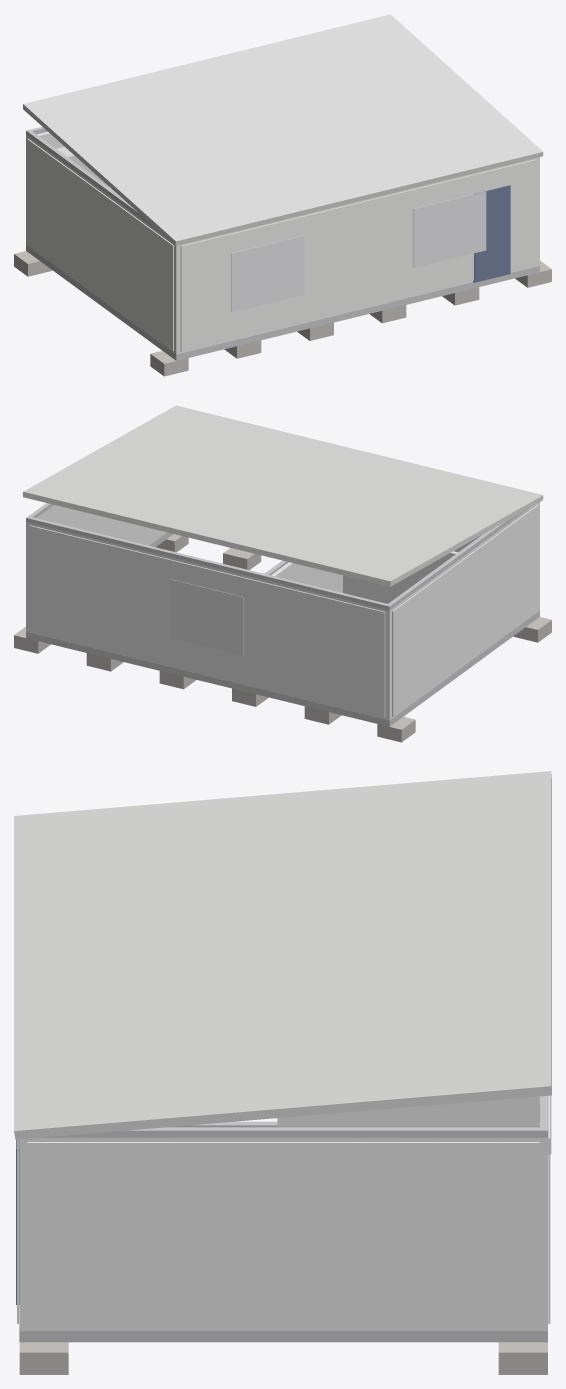
The model's file is Studio-30-Premium+SlopingRoof-LOD3.glb.
3 views of the same model, one above another, from view 1: azimuth 30°, elevation 25°; view 2: azimuth 150°, elevation 25°; view 3: azimuth 270°, elevation 25° (orthographic). The views are drawn at different scales.
Visible parts, largest first — view 1: RoofSlopingUpgrade, ExteriorPanelsPremium, WindowsLargeUpgrade, BaseFrame, FoundationBlocks, ExteriorShell, EntryDoor, TopFrame; view 2: ExteriorPanelsPremium, RoofSlopingUpgrade, ExteriorShell, FoundationBlocks, WindowsLargeUpgrade, BaseFrame, TopFrame, BedroomWalls; view 3: RoofSlopingUpgrade, ExteriorPanelsPremium, BaseFrame, ExteriorShell, BedroomWalls, TopFrame, FoundationBlocks.
Part boxes in pixels (<box>): RoofSlopingUpgrade: <box>23,14,543,245</box>; ExteriorPanelsPremium: <box>27,139,536,351</box>; WindowsLargeUpgrade: <box>231,191,486,312</box>; BaseFrame: <box>26,245,539,360</box>; FoundationBlocks: <box>14,251,551,376</box>; ExteriorShell: <box>26,133,539,354</box>; EntryDoor: <box>473,185,510,282</box>; TopFrame: <box>26,126,161,233</box>; ExteriorPanelsPremium: <box>29,504,538,717</box>; RoofSlopingUpgrade: <box>23,405,543,586</box>; ExteriorShell: <box>26,502,539,720</box>; FoundationBlocks: <box>14,534,551,742</box>; WindowsLargeUpgrade: <box>170,579,243,655</box>; BaseFrame: <box>26,532,539,726</box>; TopFrame: <box>26,503,529,610</box>; BedroomWalls: <box>271,551,457,603</box>; RoofSlopingUpgrade: <box>14,771,551,1139</box>; ExteriorPanelsPremium: <box>17,1095,550,1328</box>; BaseFrame: <box>19,1121,547,1342</box>; ExteriorShell: <box>19,1137,547,1330</box>; BedroomWalls: <box>277,1096,539,1126</box>; TopFrame: <box>39,1096,547,1137</box>; FoundationBlocks: <box>19,1096,547,1374</box>.
Bounding box in the file's own units: 9.6 × 3.77 × 6.56.
